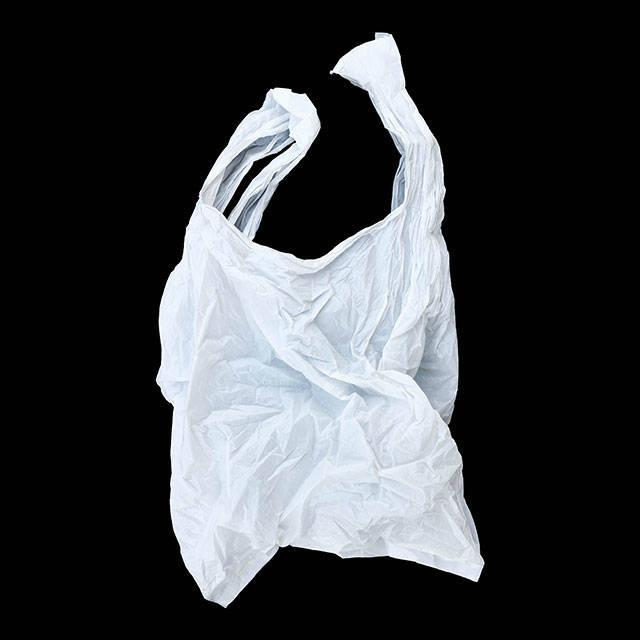plastic_bag: (141, 31, 521, 612)
